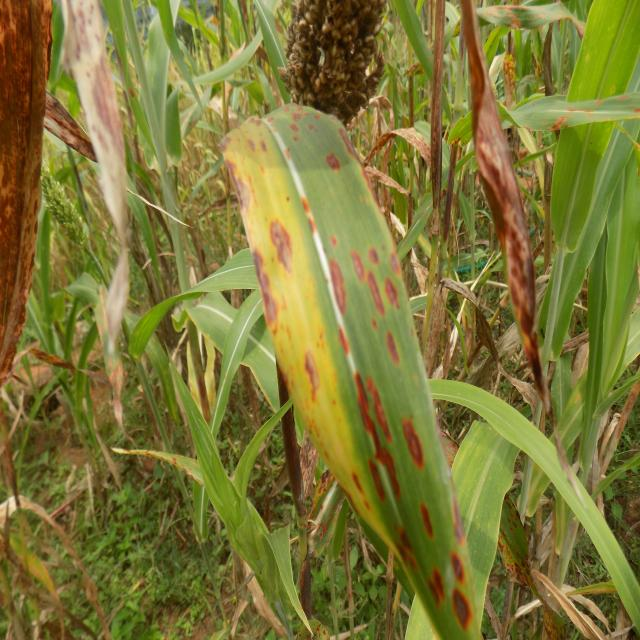millet_healthy: (425, 358, 640, 640), (169, 348, 307, 632), (547, 0, 640, 271), (420, 386, 518, 640), (583, 118, 640, 457), (178, 244, 282, 406)
millet_rust: (234, 104, 434, 637), (458, 2, 556, 422), (61, 0, 145, 442), (0, 0, 51, 418)
